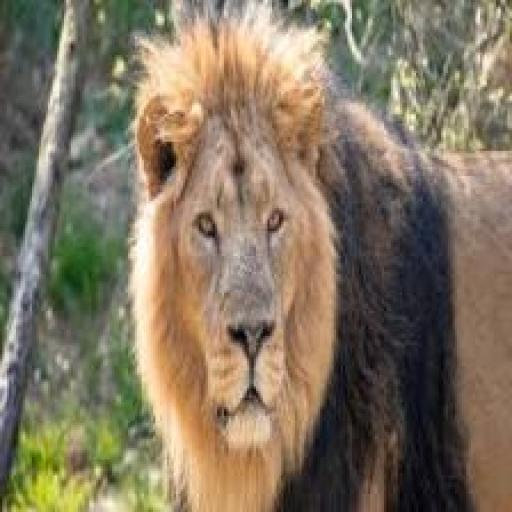lion: (114, 0, 471, 491)
